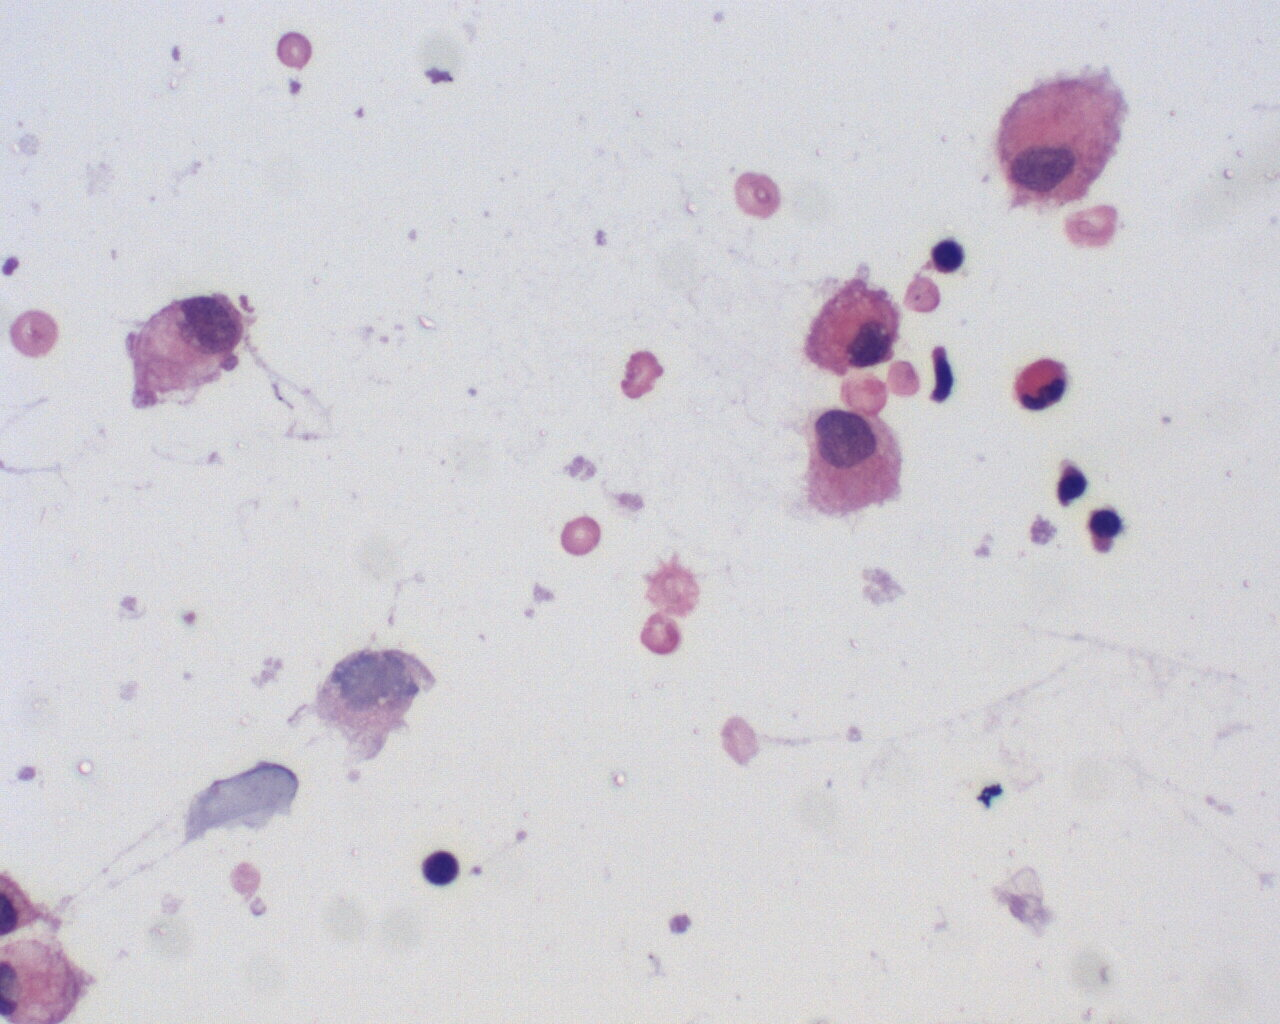histo: (983, 65, 1144, 214)
lymph: (419, 848, 461, 894), (930, 235, 969, 280)
